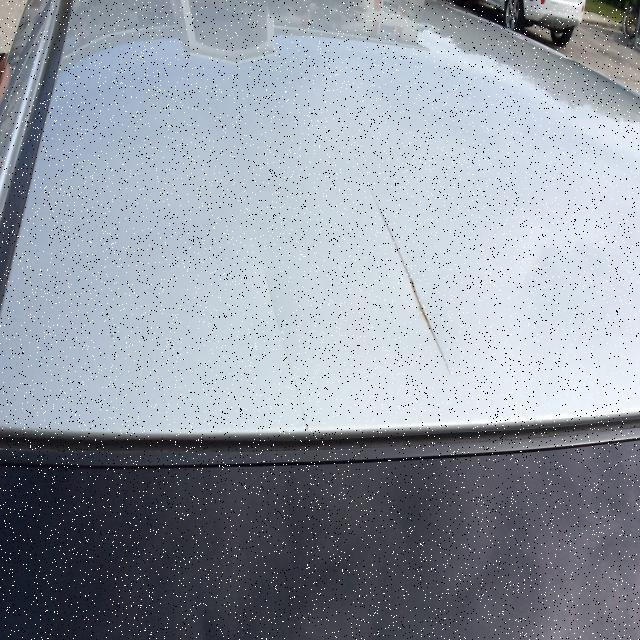roof-dent: (6, 1, 393, 640), (342, 0, 638, 640)
